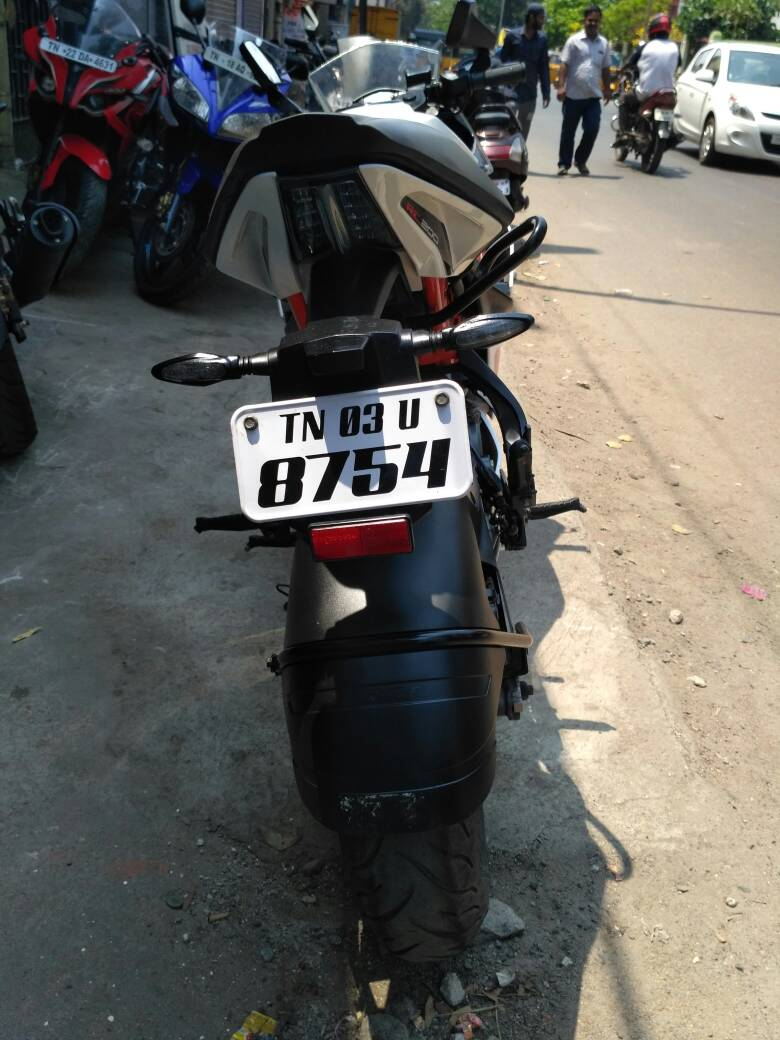doublelinenumberplate: (224, 383, 496, 523)
